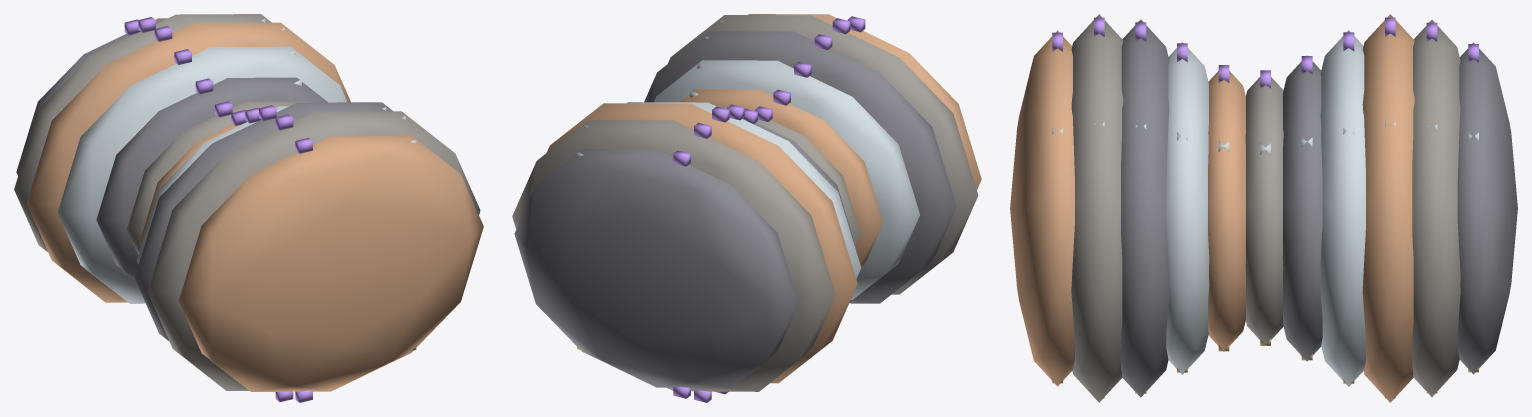
The model's file is 09_L93_Khepri7AsteroidCoreArchive.glb.
3 views of the same model, side by side, from view 1: azimuth 30°, elevation 25°; view 2: azimuth 150°, elevation 25°; view 3: azimuth 270°, elevation 25° (orthographic). The views are drawn at different scales.
Visible parts, largest first — view 1: L92_Khepri7AsteroidCoreArchiv_Part_0008, L92_Khepri7AsteroidCoreArchiv_Part_0007, L92_Khepri7AsteroidCoreArchiv_Part_0003, L92_Khepri7AsteroidCoreArchiv_Part_0000, L92_Khepri7AsteroidCoreArchiv_Part_0005, L92_Khepri7AsteroidCoreArchiv_Part_0006; view 2: L92_Khepri7AsteroidCoreArchiv_Part_0000, L92_Khepri7AsteroidCoreArchiv_Part_0007, L92_Khepri7AsteroidCoreArchiv_Part_0008, L92_Khepri7AsteroidCoreArchiv_Part_0003, L92_Khepri7AsteroidCoreArchiv_Part_0005; view 3: L92_Khepri7AsteroidCoreArchiv_Part_0008, L92_Khepri7AsteroidCoreArchiv_Part_0007, L92_Khepri7AsteroidCoreArchiv_Part_0000, L92_Khepri7AsteroidCoreArchiv_Part_0003, L92_Khepri7AsteroidCoreArchiv_Part_0005.
Boxes of the visible parts, box(x1,y1,x2,y2) form: L92_Khepri7AsteroidCoreArchiv_Part_0008: box(26, 22, 483, 391); L92_Khepri7AsteroidCoreArchiv_Part_0007: box(14, 14, 480, 390); L92_Khepri7AsteroidCoreArchiv_Part_0003: box(57, 19, 386, 303); L92_Khepri7AsteroidCoreArchiv_Part_0000: box(16, 18, 392, 341); L92_Khepri7AsteroidCoreArchiv_Part_0005: box(124, 17, 293, 402); L92_Khepri7AsteroidCoreArchiv_Part_0006: box(295, 138, 312, 402); L92_Khepri7AsteroidCoreArchiv_Part_0000: box(514, 31, 956, 387); L92_Khepri7AsteroidCoreArchiv_Part_0007: box(512, 15, 978, 391); L92_Khepri7AsteroidCoreArchiv_Part_0008: box(546, 14, 981, 383); L92_Khepri7AsteroidCoreArchiv_Part_0003: box(577, 36, 919, 299); L92_Khepri7AsteroidCoreArchiv_Part_0005: box(673, 18, 850, 402); L92_Khepri7AsteroidCoreArchiv_Part_0008: box(1010, 14, 1414, 402); L92_Khepri7AsteroidCoreArchiv_Part_0007: box(1071, 14, 1460, 402); L92_Khepri7AsteroidCoreArchiv_Part_0000: box(1121, 19, 1517, 397); L92_Khepri7AsteroidCoreArchiv_Part_0003: box(1135, 30, 1478, 386); L92_Khepri7AsteroidCoreArchiv_Part_0005: box(1094, 17, 1478, 88).
Bounding box in the file's own units: 1.64 × 1.32 × 1.79.
